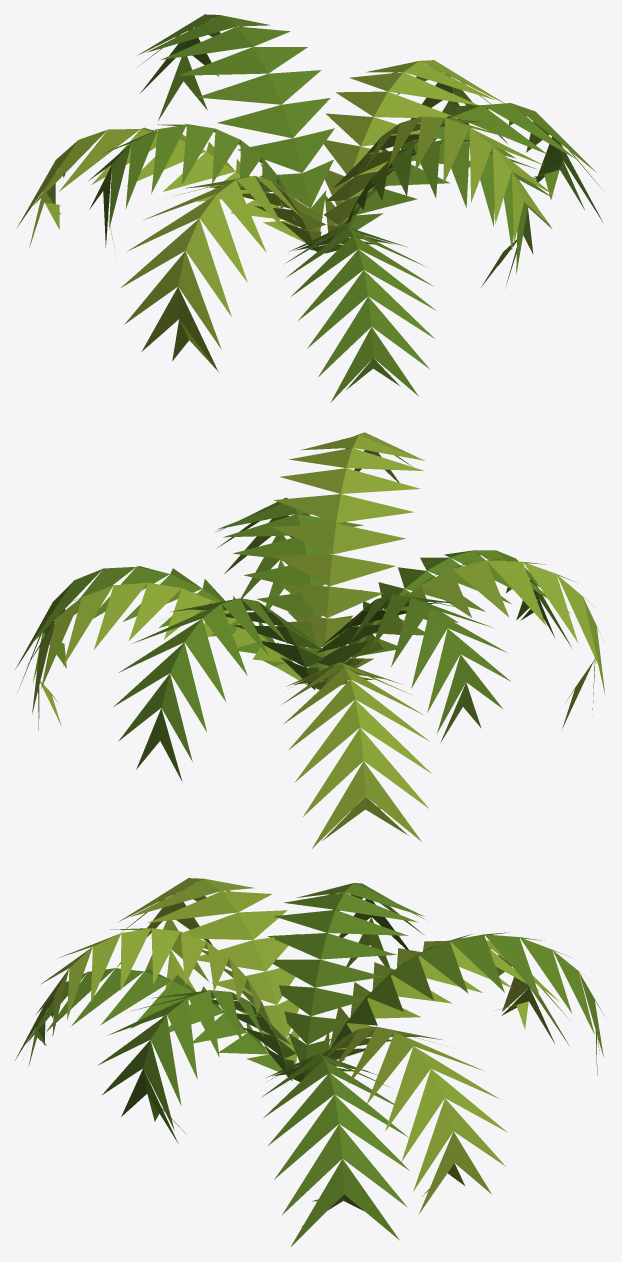
File: fougeres.glb
The picture shows the model from 3 angles, top to bottom: view 1: azimuth 30°, elevation 25°; view 2: azimuth 150°, elevation 25°; view 3: azimuth 270°, elevation 25°; orthographic projection. The views are drawn at different scales.
Parts seen in each view (by area): view 1: fougeres; view 2: fougeres; view 3: fougeres.
Boxes of the visible parts, bbox=[...] form: fougeres: bbox=[16, 14, 602, 402]; fougeres: bbox=[15, 432, 605, 849]; fougeres: bbox=[15, 878, 604, 1246].
Size of the model in its own units: 1.54 by 0.6108 by 1.56.
